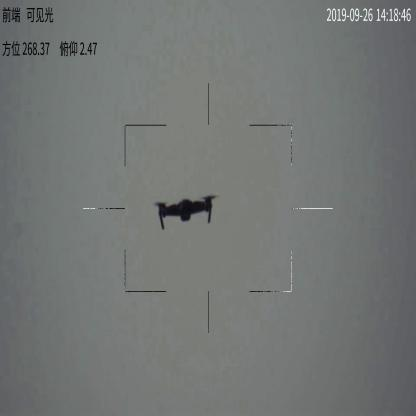uav: (145, 193, 225, 231)
